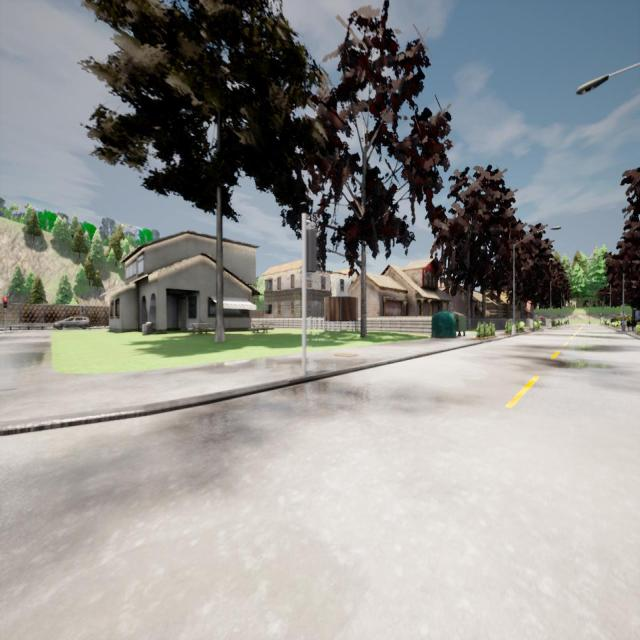Vehicle: (53, 316, 90, 329)
traffic_light: (306, 229, 321, 273), (3, 298, 8, 308)
